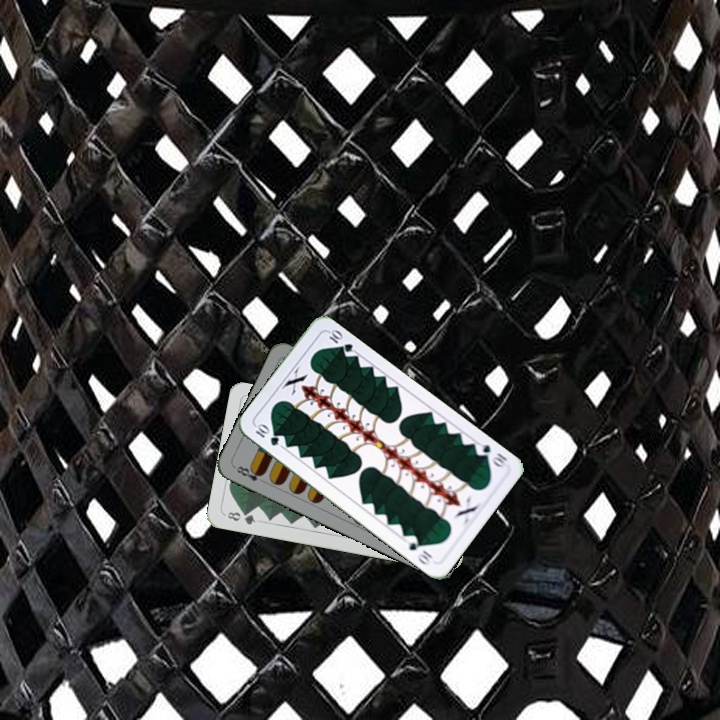E8: (231, 462, 268, 486)
G10: (471, 438, 510, 471), (251, 420, 282, 449)
G8: (223, 508, 258, 527)
